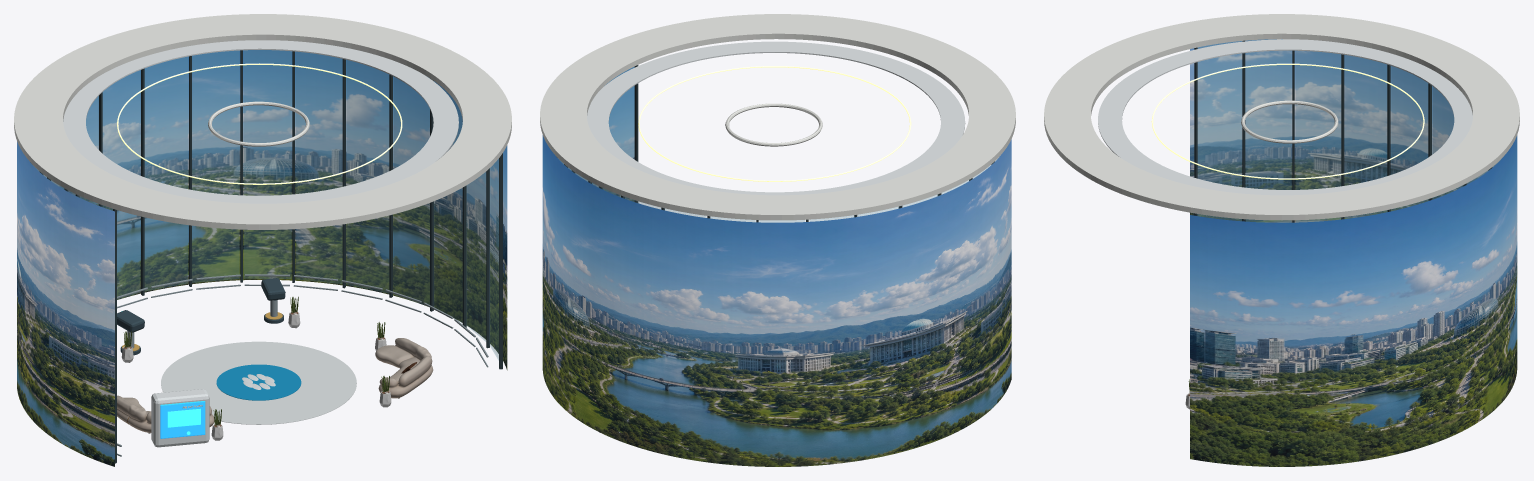
Rendered from observatory-interior-CRpfDreC.glb.
3 views of the same model, side by side, from view 1: azimuth 30°, elevation 25°; view 2: azimuth 150°, elevation 25°; view 3: azimuth 270°, elevation 25° (orthographic). The views are drawn at different scales.
Parts seen in each view (by area): view 1: Backdrop_Sejong_city_panorama, Roof_annulus, Ceiling_recess_ring, Floor_inner_inlay, Window_glass_11, Window_glass_12, Window_glass_13, Window_glass_10, Window_glass_14, Window_glass_15, Window_glass_09, Window_glass_16 (+22 smaller); view 2: Backdrop_Sejong_city_panorama, Roof_annulus, Ceiling_recess_ring, Window_glass_18, Ceiling_LED_inner, Ceiling_center_ring; view 3: Backdrop_Sejong_city_panorama, Roof_annulus, Ceiling_recess_ring, Window_glass_02, Window_glass_03, Window_glass_01, Window_glass_04, Window_glass_05, Ceiling_LED_inner, Window_glass_06, Ceiling_center_ring, Window_mullion_04 (+1 smaller).
Part boxes in pixels (x1,y1,x2,y2): Backdrop_Sejong_city_panorama: (17, 50, 507, 466); Roof_annulus: (14, 14, 511, 229); Ceiling_recess_ring: (63, 40, 458, 203); Floor_inner_inlay: (161, 341, 356, 424); Window_glass_11: (192, 51, 239, 282); Window_glass_12: (244, 50, 291, 278); Window_glass_13: (296, 52, 342, 283); Window_glass_10: (145, 57, 187, 290); Window_glass_14: (346, 60, 388, 292); Window_glass_15: (393, 77, 429, 304); Window_glass_09: (103, 70, 140, 299); Window_glass_16: (434, 81, 462, 322); Backdrop_Sejong_city_panorama: (542, 67, 1011, 466); Roof_annulus: (540, 14, 1015, 220); Ceiling_recess_ring: (587, 41, 965, 195); Window_glass_18: (603, 67, 634, 201); Ceiling_LED_inner: (638, 66, 911, 181); Ceiling_center_ring: (725, 103, 822, 146); Backdrop_Sejong_city_panorama: (1190, 39, 1517, 466); Roof_annulus: (1044, 14, 1519, 220); Ceiling_recess_ring: (1098, 39, 1472, 195); Window_glass_02: (1246, 39, 1291, 221); Window_glass_03: (1296, 51, 1340, 221); Window_glass_01: (1198, 41, 1241, 220); Window_glass_04: (1345, 55, 1386, 218); Window_glass_05: (1391, 66, 1427, 210); Ceiling_LED_inner: (1151, 63, 1424, 179); Window_glass_06: (1432, 86, 1461, 198); Ceiling_center_ring: (1241, 100, 1338, 143); Window_mullion_04: (1341, 54, 1344, 186).
Size of what is drawn, in the model's own units: 30.5 by 18.34 by 30.5.
Materials: 15 (3 with a texture image).
